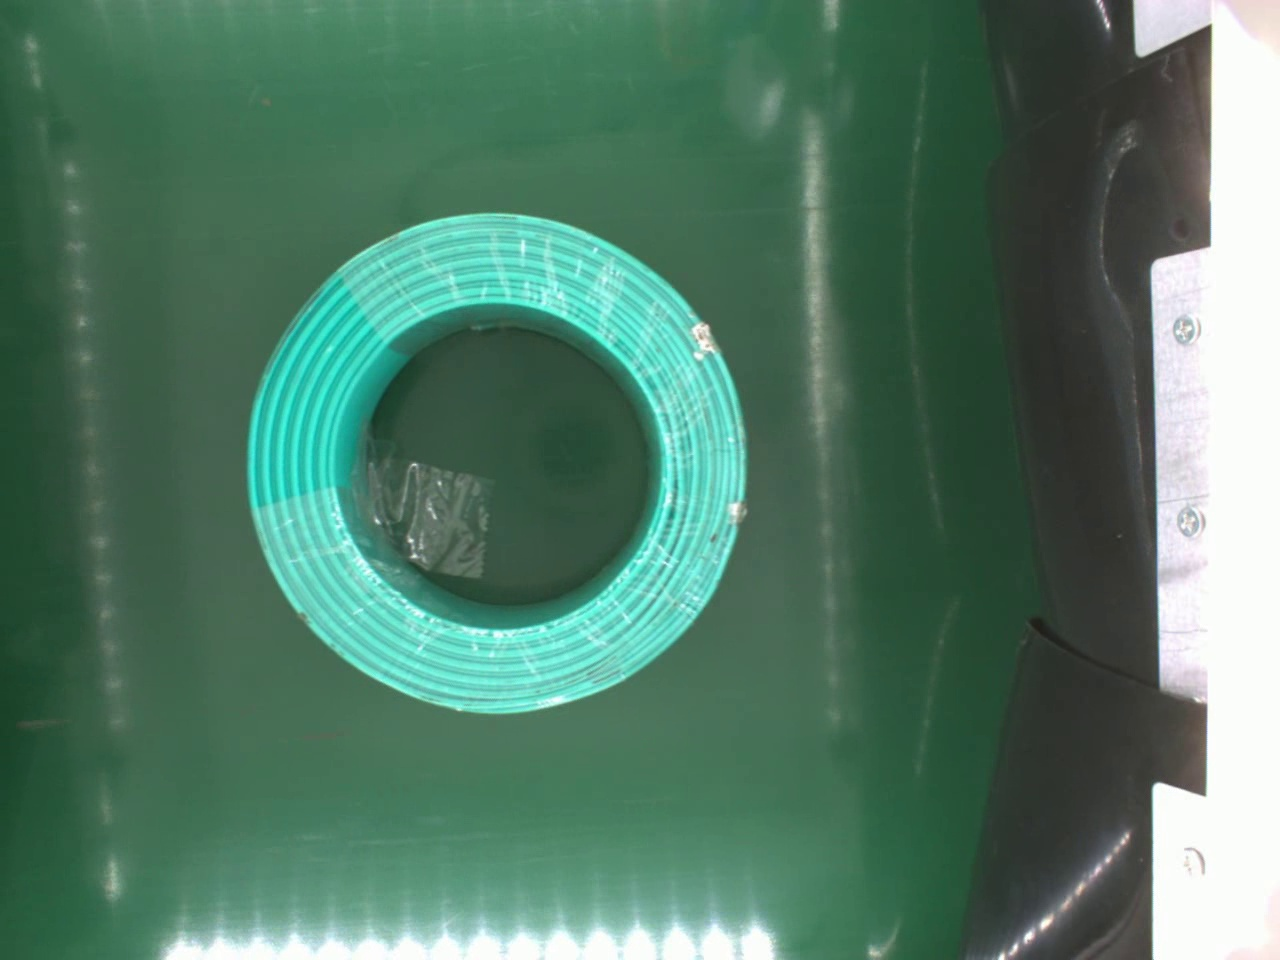green: (237, 206, 755, 720)
